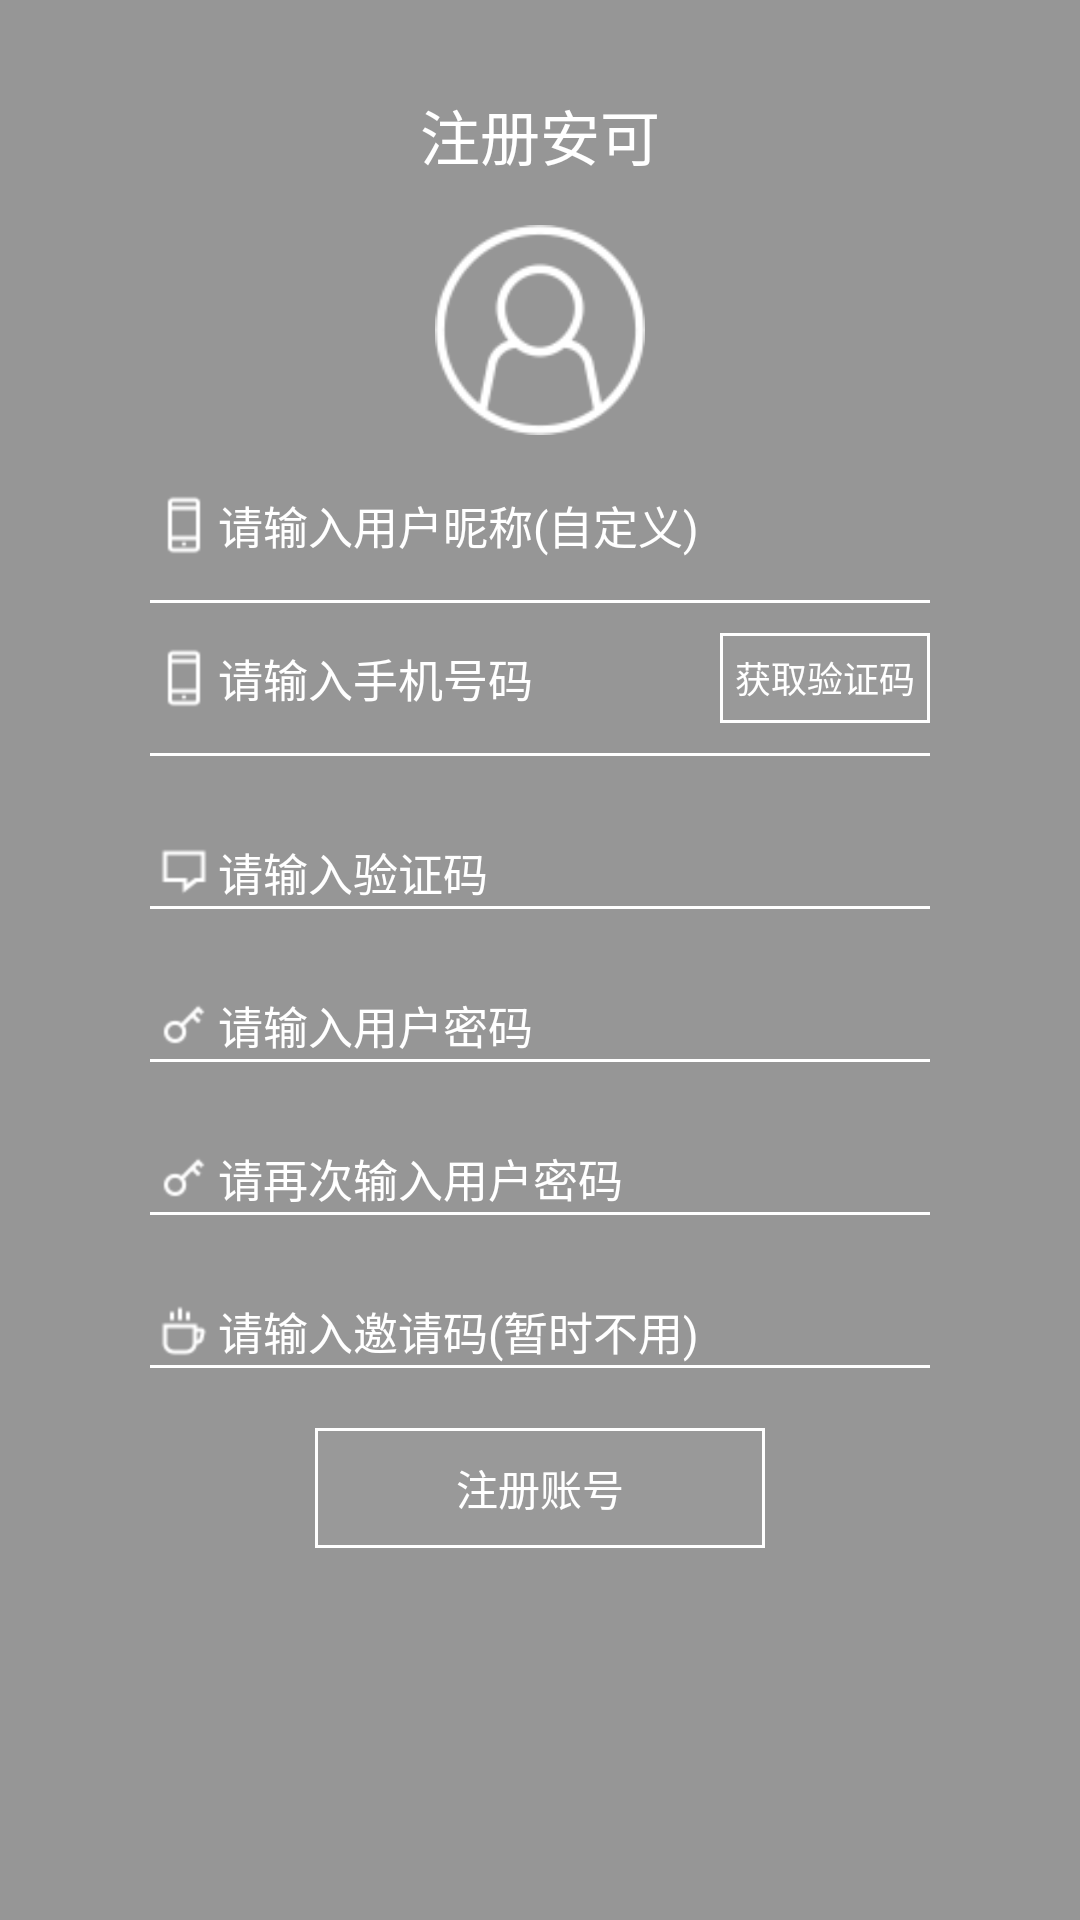

Icons on this 1080 × 1920 Android screen, each with the point to tap as (x=x, y=y):
profile: (x=540, y=330)
